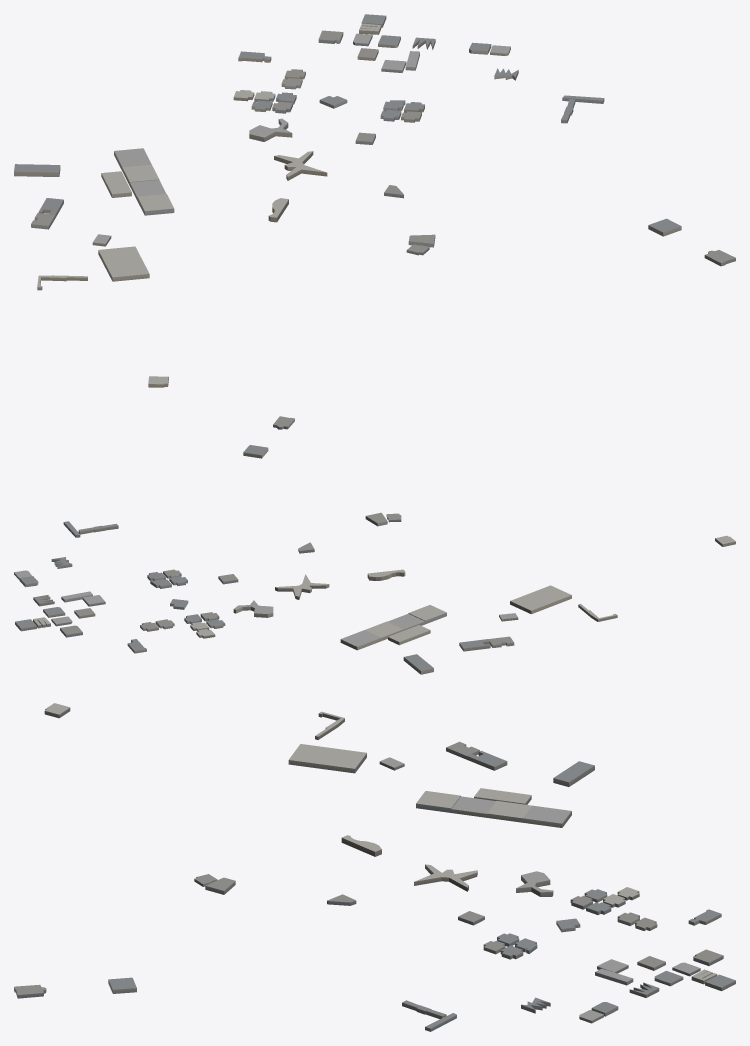
The model's file is bld_19_12.fbx.
3 views of the same model, one above another, from view 1: azimuth 30°, elevation 25°; view 2: azimuth 150°, elevation 25°; view 3: azimuth 270°, elevation 25° (orthographic). The views are drawn at different scales.
Parts seen in each view (by area): view 1: bld_19_12_LOD0; view 2: bld_19_12_LOD0; view 3: bld_19_12_LOD0.
Part boxes in pixels (x1,y1,x2,y2): bld_19_12_LOD0: (14, 14, 735, 387); bld_19_12_LOD0: (14, 416, 735, 674); bld_19_12_LOD0: (14, 703, 735, 1031).
Size of the model in its own units: 1959 by 14.14 by 1838.
